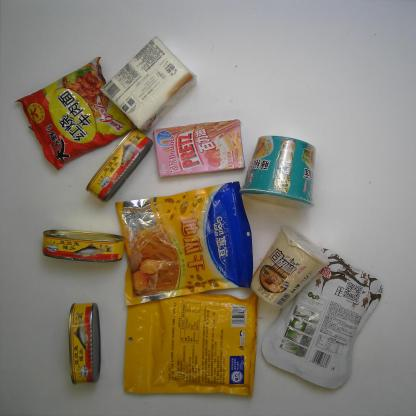Canned Food: (85, 127, 154, 204), (65, 300, 104, 386), (38, 226, 126, 264)
Dessert: (152, 118, 247, 178)
Dried Fruit: (260, 247, 385, 391), (114, 180, 254, 308), (119, 290, 261, 400)
Instant Noodles: (13, 55, 134, 171), (250, 223, 331, 310), (237, 134, 318, 211)
Tissue: (98, 34, 198, 133)
